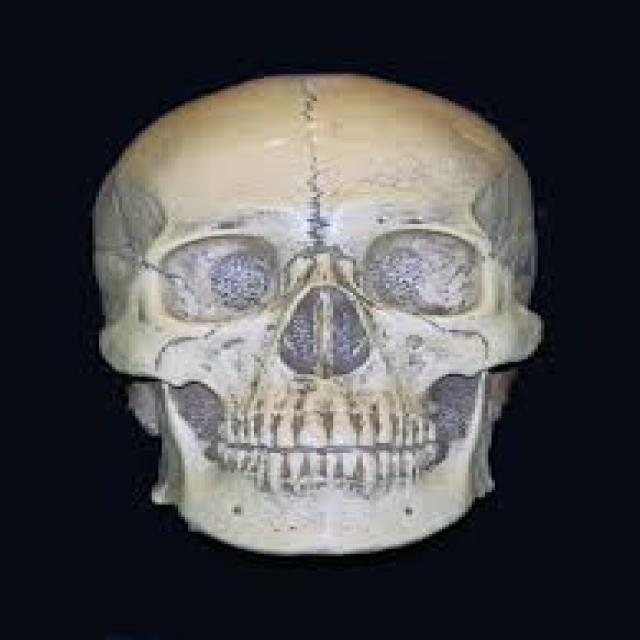skull: (75, 65, 557, 563)
